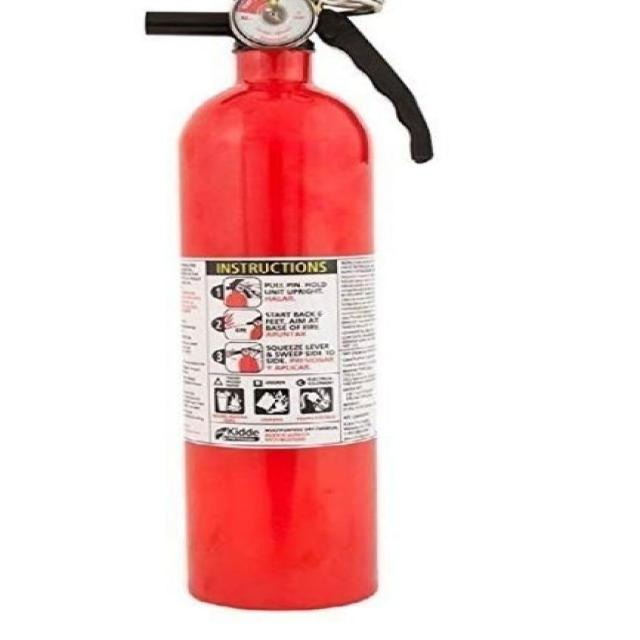fire_extinguisher: (134, 0, 447, 613)
